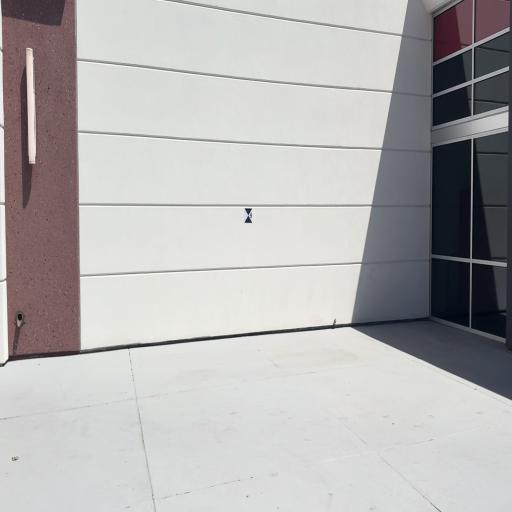target4: (245, 208, 253, 224)
